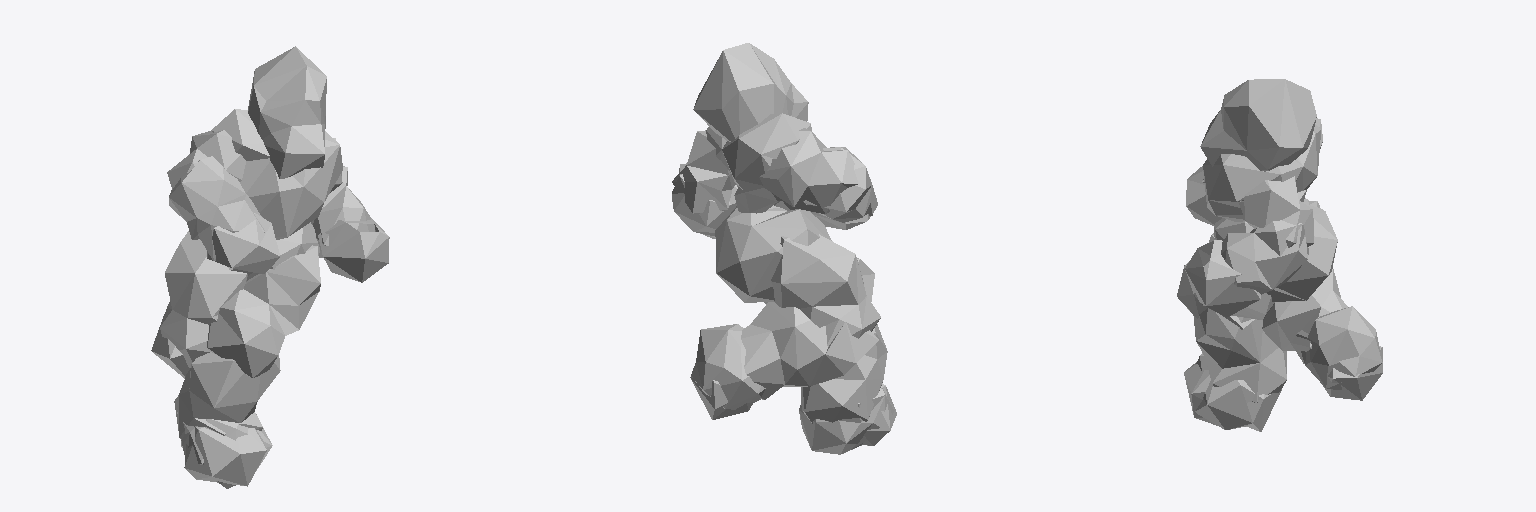
Rendered from dance_frames0334.obj.
The picture shows the model from 3 angles: view 1: azimuth 30°, elevation 25°; view 2: azimuth 150°, elevation 25°; view 3: azimuth 270°, elevation 25°; orthographic projection.
Visible parts, largest first — view 1: Beta_Surface; view 2: Beta_Surface; view 3: Beta_Surface.
Boxes of the visible parts, <box> form: Beta_Surface: <box>151,46,389,488</box>; Beta_Surface: <box>672,43,896,454</box>; Beta_Surface: <box>1177,79,1382,431</box>.
Size of the model in its own units: 1.04 by 1.99 by 0.9443.